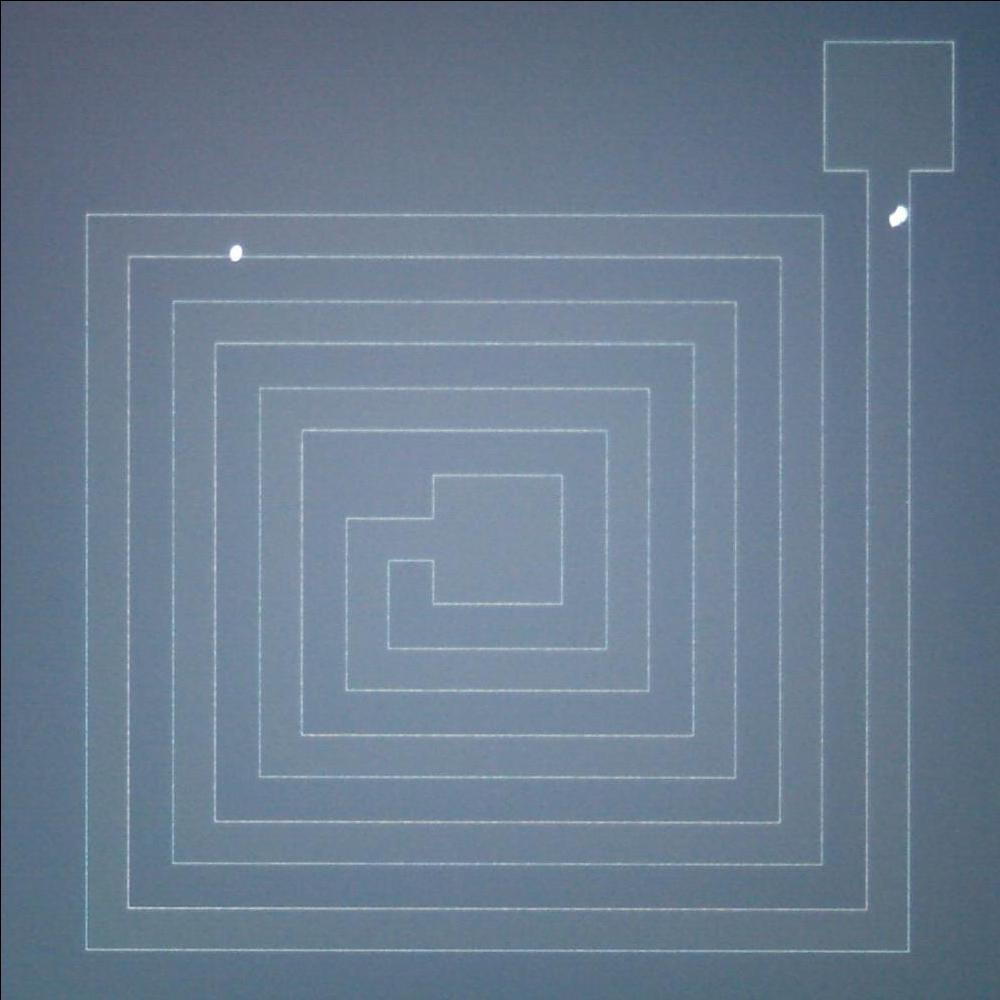spot: (880, 194, 917, 233), (215, 236, 254, 268)
